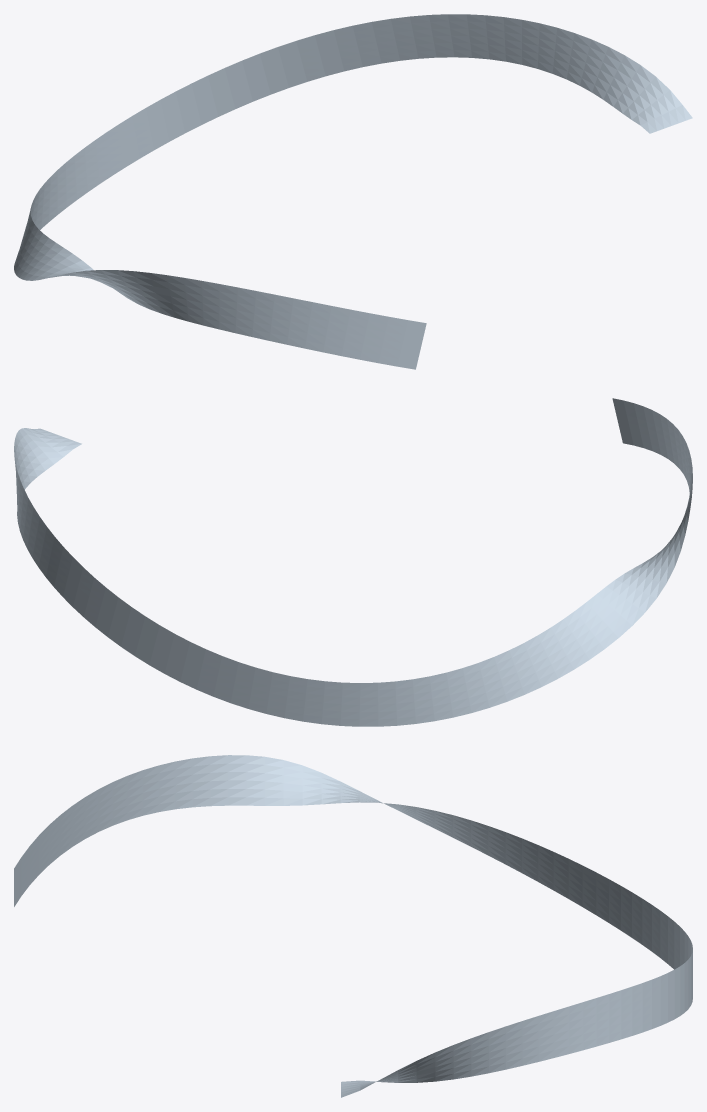
Rendered from 2063_AirborneAirflow_HolderWindMain.fbx.
3 renders of one model, top to bottom at view 1: azimuth 30°, elevation 25°; view 2: azimuth 150°, elevation 25°; view 3: azimuth 270°, elevation 25°, orthographic. The views are drawn at different scales.
Parts seen in each view (by area): view 1: PART_HolderWindMain; view 2: PART_HolderWindMain; view 3: PART_HolderWindMain.
Boxes of the visible parts, box(x1,y1,x2,y2) form: PART_HolderWindMain: box(14, 14, 692, 369); PART_HolderWindMain: box(14, 398, 692, 726); PART_HolderWindMain: box(14, 755, 692, 1097).
Bounding box in the file's own units: 214 × 40.39 × 193.
